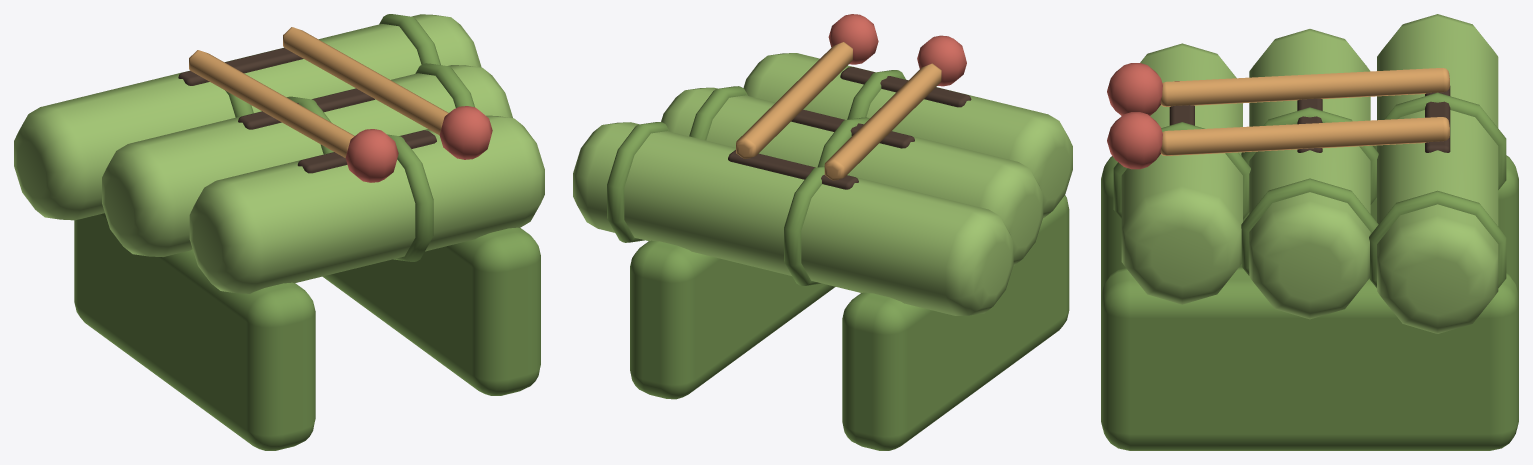
The model's file is bamboo_slit_drum.glb.
3 views of the same model, side by side, from view 1: azimuth 30°, elevation 25°; view 2: azimuth 150°, elevation 25°; view 3: azimuth 270°, elevation 25° (orthographic). The views are drawn at different scales.
Parts seen in each view (by area): view 1: bamboo_slit_drum_mesh; view 2: bamboo_slit_drum_mesh; view 3: bamboo_slit_drum_mesh.
Part boxes in pixels (<box>): bamboo_slit_drum_mesh: <box>14,14,544,450</box>; bamboo_slit_drum_mesh: <box>573,14,1072,450</box>; bamboo_slit_drum_mesh: <box>1101,14,1518,450</box>.
Bounding box in the file's own units: 0.46 × 0.295 × 0.36.
